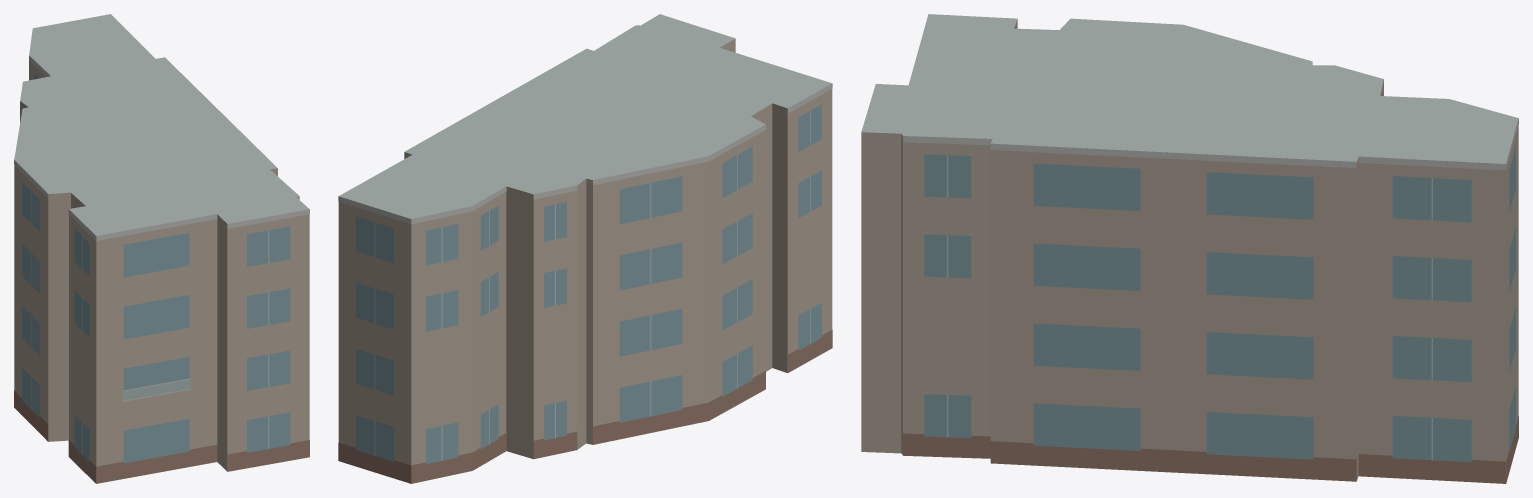
Rendered from survey-upis-32674109.glb.
The picture shows the model from 3 angles, left to right: view 1: azimuth 30°, elevation 25°; view 2: azimuth 150°, elevation 25°; view 3: azimuth 270°, elevation 25°; orthographic projection. The views are drawn at different scales.
Parts seen in each view (by area): view 1: survey-upis-32674109.tmp; view 2: survey-upis-32674109.tmp; view 3: survey-upis-32674109.tmp.
Part boxes in pixels (x1=…): survey-upis-32674109.tmp: x1=14, y1=14, x2=309, y2=483; survey-upis-32674109.tmp: x1=338, y1=14, x2=832, y2=483; survey-upis-32674109.tmp: x1=861, y1=14, x2=1518, y2=483.
Bounding box in the file's own units: 12.29 × 12.2 × 22.75.
